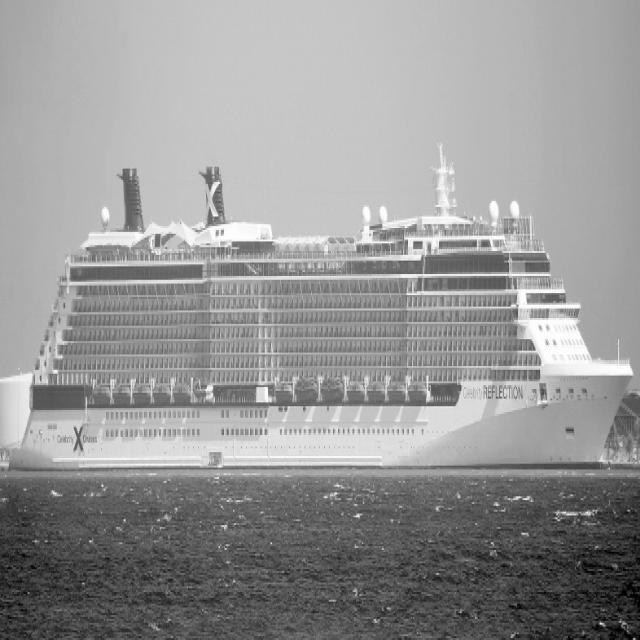cruises: (18, 120, 635, 491)
